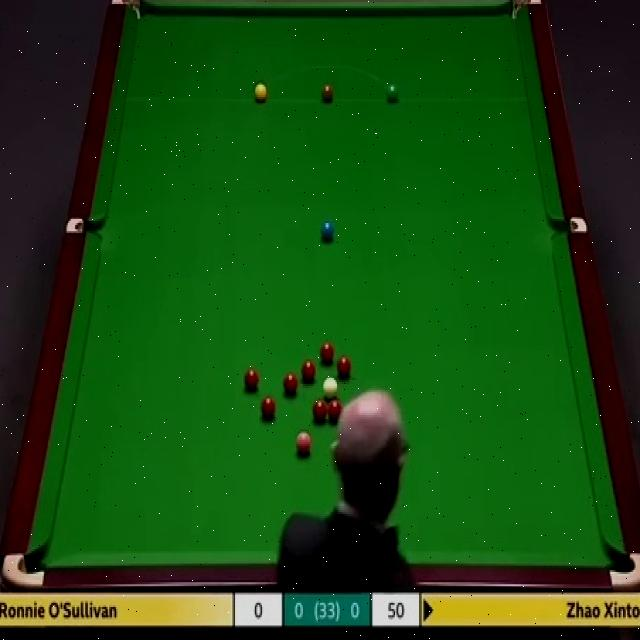blue-ball: (320, 218, 336, 240)
brown-ball: (320, 81, 334, 103)
green-ball: (385, 82, 401, 104)
pink-ball: (295, 430, 313, 455)
red-ball: (242, 367, 260, 393), (259, 394, 277, 420), (335, 355, 352, 379), (300, 358, 316, 383), (311, 398, 327, 423), (283, 371, 298, 395), (319, 340, 334, 364), (327, 399, 342, 422)
white-ball: (321, 377, 339, 400)
yellow-ball: (254, 80, 268, 102)
